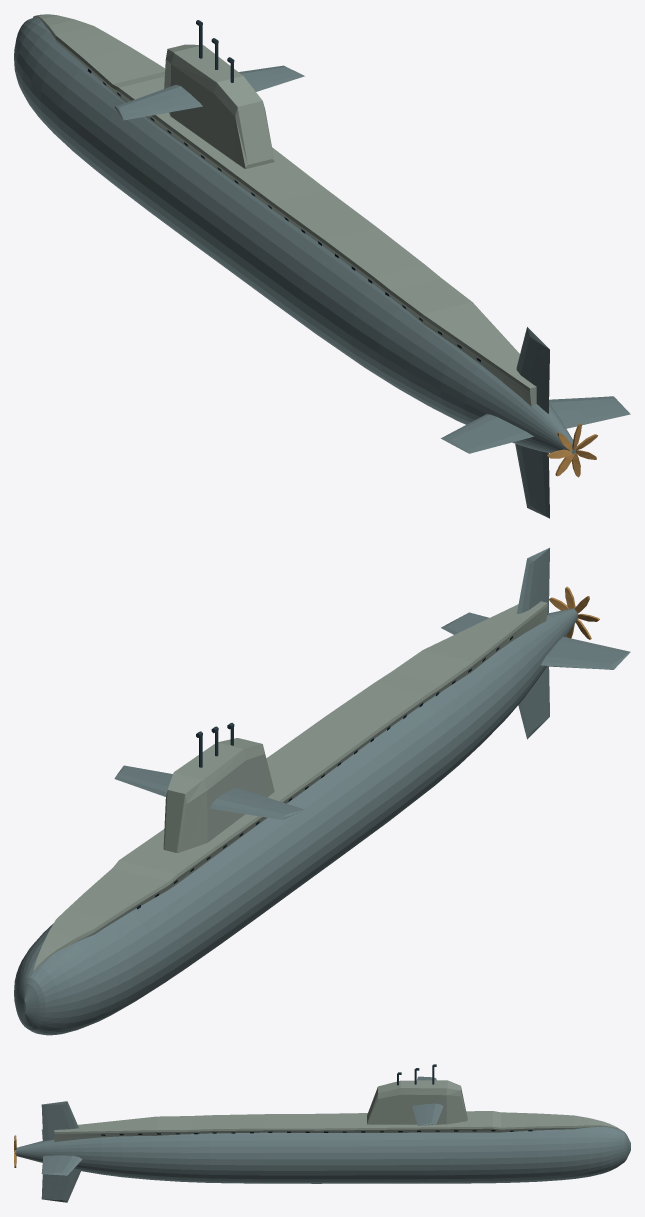
The model's file is archive-sauro-first-series.glb.
3 views of the same model, one above another, from view 1: azimuth 30°, elevation 25°; view 2: azimuth 150°, elevation 25°; view 3: azimuth 270°, elevation 25° (orthographic). The views are drawn at different scales.
Visible parts, largest first — view 1: archive-sauro-first-series-pressure_hull.017-geometry, archive-sauro-first-series-cruise_deck.013-geometry, archive-sauro-first-series-submarine_sail.017-geometry, archive-sauro-first-series-stern_rudder_2.011-geometry, archive-sauro-first-series-stern_rudder_1.011-geometry, archive-sauro-first-series-stern_rudder_0.011-geometry, archive-sauro-first-series-stern_rudder_3.011-geometry, archive-sauro-first-series-diving_plane_-1.017-geometry, archive-sauro-first-series-screw_0.017-geometry, archive-sauro-first-series-diving_plane_1.017-geometry; view 2: archive-sauro-first-series-pressure_hull.017-geometry, archive-sauro-first-series-cruise_deck.013-geometry, archive-sauro-first-series-submarine_sail.017-geometry, archive-sauro-first-series-stern_rudder_2.011-geometry, archive-sauro-first-series-diving_plane_-1.017-geometry, archive-sauro-first-series-stern_rudder_3.011-geometry, archive-sauro-first-series-stern_rudder_1.011-geometry, archive-sauro-first-series-diving_plane_1.017-geometry, archive-sauro-first-series-screw_0.017-geometry; view 3: archive-sauro-first-series-pressure_hull.017-geometry, archive-sauro-first-series-cruise_deck.013-geometry, archive-sauro-first-series-submarine_sail.017-geometry, archive-sauro-first-series-stern_rudder_3.011-geometry, archive-sauro-first-series-stern_rudder_1.011-geometry, archive-sauro-first-series-stern_rudder_0.011-geometry, archive-sauro-first-series-diving_plane_1.017-geometry, archive-sauro-first-series-flood_openings.013-geometry.
Part boxes in pixels (box(x1,y1,x2,y2)): archive-sauro-first-series-pressure_hull.017-geometry: box(14, 17, 576, 453); archive-sauro-first-series-cruise_deck.013-geometry: box(33, 14, 536, 406); archive-sauro-first-series-submarine_sail.017-geometry: box(164, 20, 274, 168); archive-sauro-first-series-stern_rudder_2.011-geometry: box(441, 414, 533, 453); archive-sauro-first-series-stern_rudder_1.011-geometry: box(515, 444, 549, 518); archive-sauro-first-series-stern_rudder_0.011-geometry: box(549, 396, 630, 428); archive-sauro-first-series-stern_rudder_3.011-geometry: box(516, 327, 549, 413); archive-sauro-first-series-diving_plane_-1.017-geometry: box(114, 84, 202, 120); archive-sauro-first-series-screw_0.017-geometry: box(547, 423, 597, 477); archive-sauro-first-series-diving_plane_1.017-geometry: box(239, 65, 304, 91); archive-sauro-first-series-pressure_hull.017-geometry: box(14, 608, 577, 1035); archive-sauro-first-series-cruise_deck.013-geometry: box(33, 601, 547, 972); archive-sauro-first-series-submarine_sail.017-geometry: box(163, 722, 274, 852); archive-sauro-first-series-stern_rudder_2.011-geometry: box(541, 636, 630, 669); archive-sauro-first-series-diving_plane_-1.017-geometry: box(210, 787, 304, 819); archive-sauro-first-series-stern_rudder_3.011-geometry: box(517, 547, 549, 614); archive-sauro-first-series-stern_rudder_1.011-geometry: box(518, 666, 549, 739); archive-sauro-first-series-diving_plane_1.017-geometry: box(114, 765, 172, 796); archive-sauro-first-series-screw_0.017-geometry: box(549, 586, 599, 639); archive-sauro-first-series-pressure_hull.017-geometry: box(15, 1127, 630, 1183); archive-sauro-first-series-cruise_deck.013-geometry: box(54, 1111, 621, 1142); archive-sauro-first-series-submarine_sail.017-geometry: box(367, 1064, 467, 1124); archive-sauro-first-series-stern_rudder_3.011-geometry: box(41, 1101, 78, 1141); archive-sauro-first-series-stern_rudder_1.011-geometry: box(41, 1169, 80, 1202); archive-sauro-first-series-stern_rudder_0.011-geometry: box(41, 1155, 82, 1175); archive-sauro-first-series-diving_plane_1.017-geometry: box(412, 1103, 443, 1126); archive-sauro-first-series-flood_openings.013-geometry: box(101, 1130, 532, 1135).
Size of the model in its own units: 1.87 by 2.43 by 9.82.
